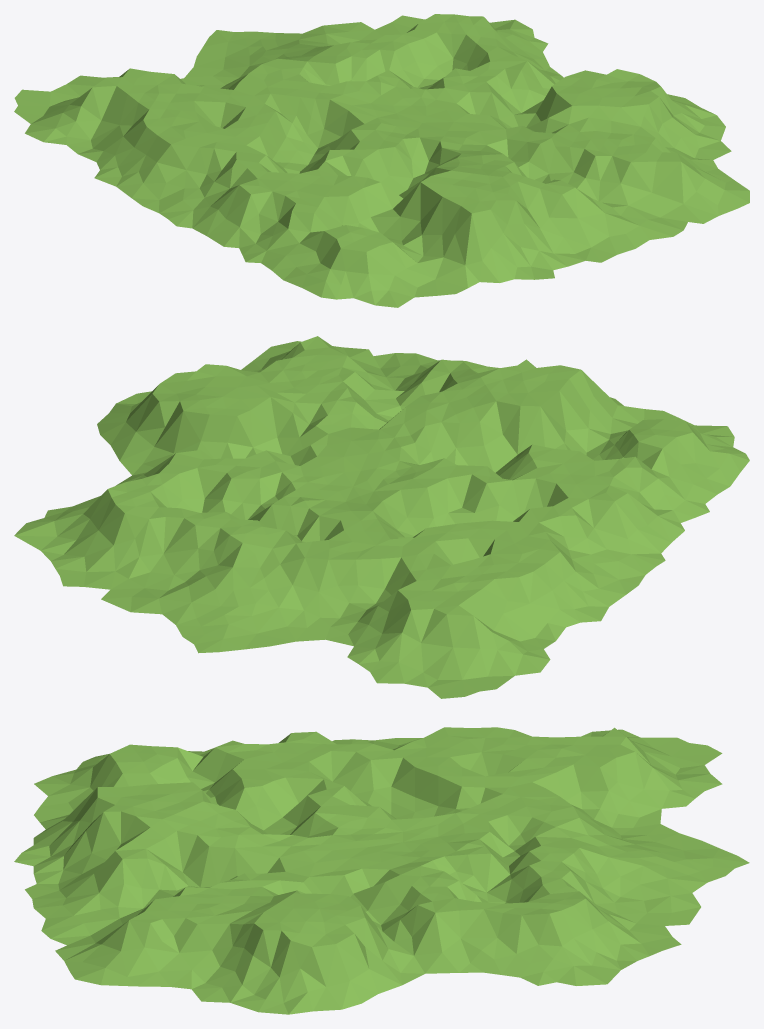
The model's file is MT_Mountain_L_c_07.fbx.
3 views of the same model, one above another, from view 1: azimuth 30°, elevation 25°; view 2: azimuth 150°, elevation 25°; view 3: azimuth 270°, elevation 25° (orthographic). The views are drawn at different scales.
Parts seen in each view (by area): view 1: MT_Mountain_L_c_07; view 2: MT_Mountain_L_c_07; view 3: MT_Mountain_L_c_07.
Boxes of the visible parts, <box> form: MT_Mountain_L_c_07: <box>14,14,749,307</box>; MT_Mountain_L_c_07: <box>14,336,749,698</box>; MT_Mountain_L_c_07: <box>14,727,749,1014</box>.
Size of the model in its own units: 8962 by 814 by 9788.
